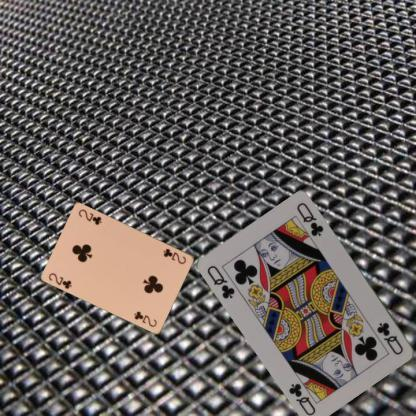2c: (46, 270, 74, 290), (161, 245, 187, 266)
Qc: (204, 262, 237, 300), (374, 320, 405, 356)
